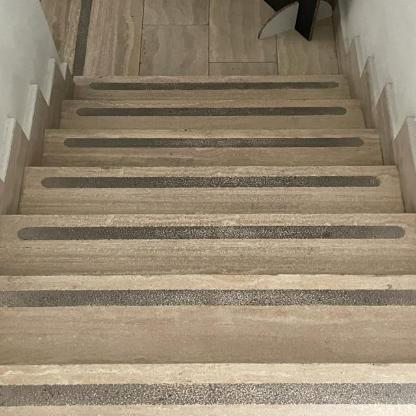stair: (16, 51, 416, 406)
